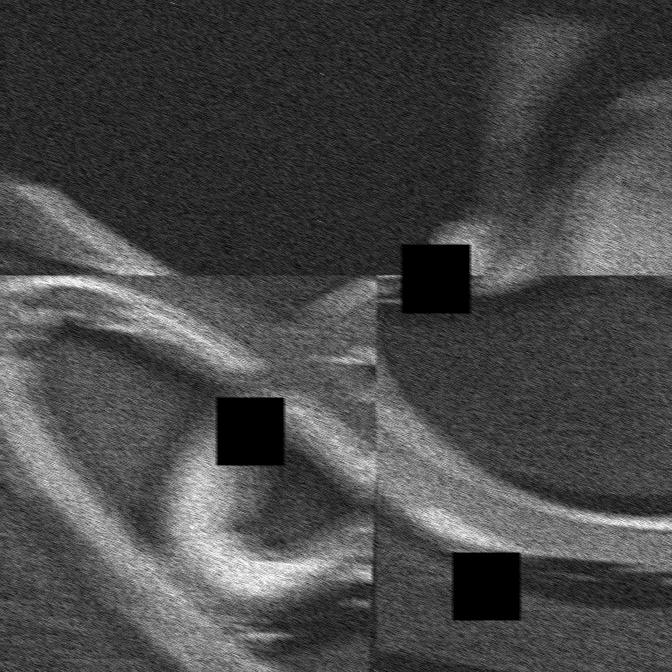Airbag: (0, 275, 376, 672), (375, 275, 672, 672), (0, 0, 376, 275), (375, 0, 672, 275)
